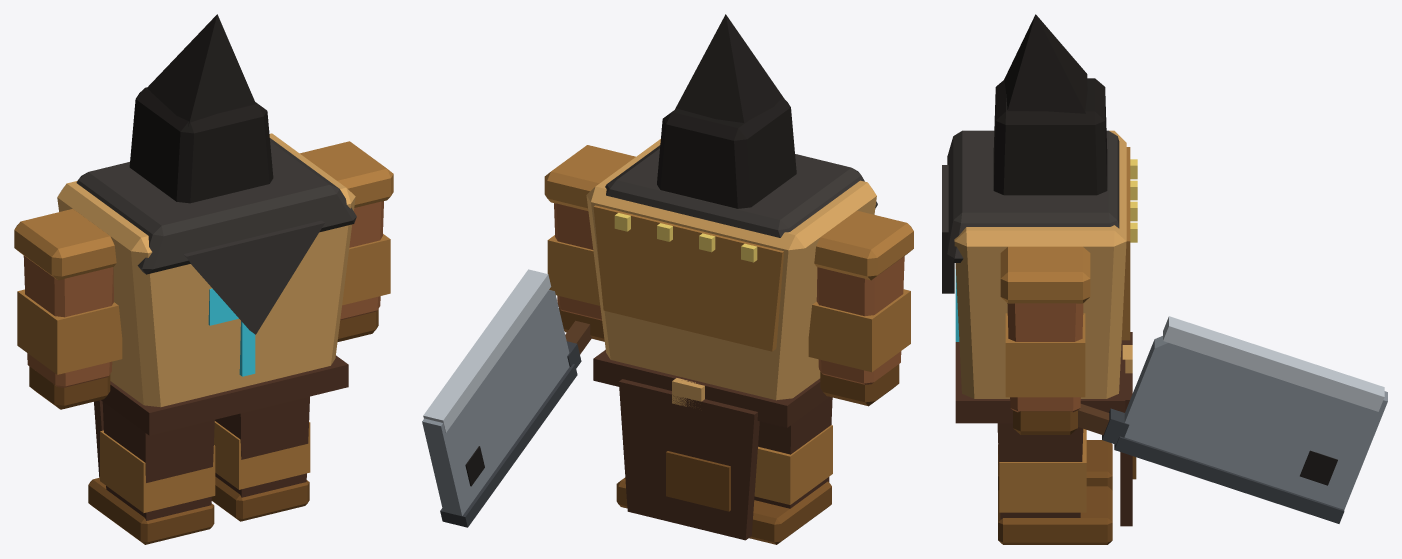
The model's file is CH_MurderMachine_BronzeColossus.fbx.
3 renders of one model, left to right at view 1: azimuth 30°, elevation 25°; view 2: azimuth 150°, elevation 25°; view 3: azimuth 270°, elevation 25°, orthographic. The views are drawn at different scales.
Parts seen in each view (by area): view 1: Body, Mantle, Head, MantleTail, Belt, HoodPoint, VambraceL, LegL, PauldronL, ArmL, GreaveL, LegR (+10 smaller); view 2: Body, ChestPlate, Apron, Blade, Head, Mantle, HoodPoint, VambraceL, Edge, PauldronL, ArmL, Belt (+11 smaller); view 3: Blade, Body, Head, Mantle, Edge, HoodPoint, PauldronR, VambraceR, GreaveR, BootR, ArmR, Spine (+10 smaller).
Part boxes in pixels (bbox=[...]): Body: bbox=[57, 133, 355, 407]; Mantle: bbox=[76, 138, 356, 274]; Head: bbox=[129, 87, 273, 203]; MantleTail: bbox=[183, 220, 324, 334]; Belt: bbox=[101, 355, 348, 435]; HoodPoint: bbox=[147, 14, 255, 126]; VambraceL: bbox=[17, 289, 122, 374]; LegL: bbox=[102, 402, 214, 520]; PauldronL: bbox=[14, 209, 116, 280]; ArmL: bbox=[23, 255, 113, 387]; GreaveL: bbox=[100, 430, 215, 512]; LegR: bbox=[215, 396, 309, 497]; Body: bbox=[586, 139, 876, 400]; ChestPlate: bbox=[593, 205, 783, 351]; Apron: bbox=[619, 379, 759, 540]; Blade: bbox=[422, 290, 569, 516]; Head: bbox=[657, 97, 796, 208]; Mantle: bbox=[605, 145, 877, 237]; HoodPoint: bbox=[675, 14, 785, 122]; VambraceL: bbox=[808, 289, 910, 372]; Edge: bbox=[423, 269, 551, 432]; PauldronL: bbox=[814, 210, 913, 280]; ArmL: bbox=[816, 256, 904, 384]; Belt: bbox=[593, 350, 829, 427]; Blade: bbox=[1124, 336, 1387, 509]; Body: bbox=[954, 130, 1126, 398]; Head: bbox=[993, 78, 1107, 195]; Mantle: bbox=[947, 130, 1119, 262]; Edge: bbox=[1163, 316, 1384, 411]; HoodPoint: bbox=[1004, 14, 1087, 113]; PauldronR: bbox=[1000, 246, 1090, 303]; VambraceR: bbox=[1005, 313, 1085, 397]; GreaveR: bbox=[999, 429, 1086, 512]; BootR: bbox=[998, 486, 1112, 544]; ArmR: bbox=[1007, 303, 1083, 412]; Spine: bbox=[1114, 436, 1344, 523].
Size of the model in its own units: 1.58 by 1.79 by 2.2.
